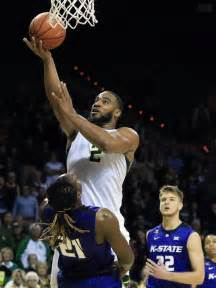basketball: (29, 12, 65, 48)
